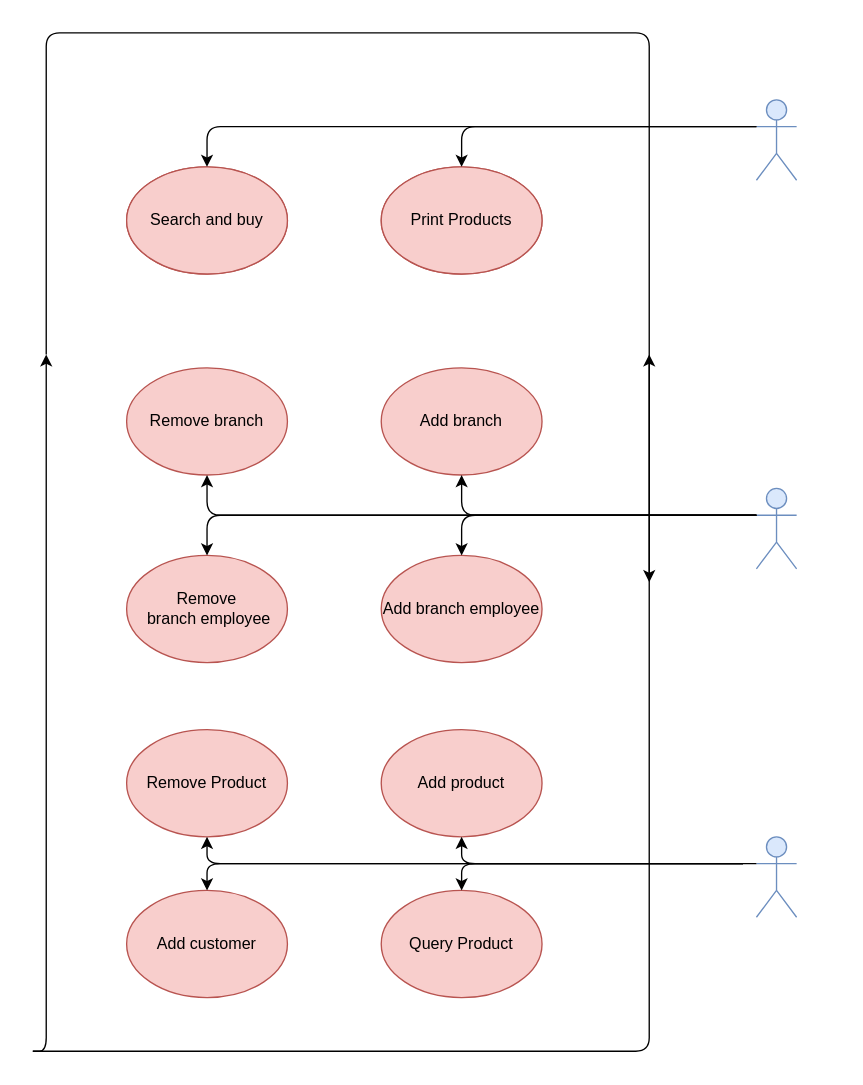
The diagram is 863 pixels wide and 1085 high, and some of its shapes have lost their labels. The box of each missing label's shape, as (x1, y1, x2, y2) in pixels:
Administrator: (755, 487, 797, 569)
Branch Employee: (755, 835, 797, 917)
Customer: (755, 98, 797, 180)
